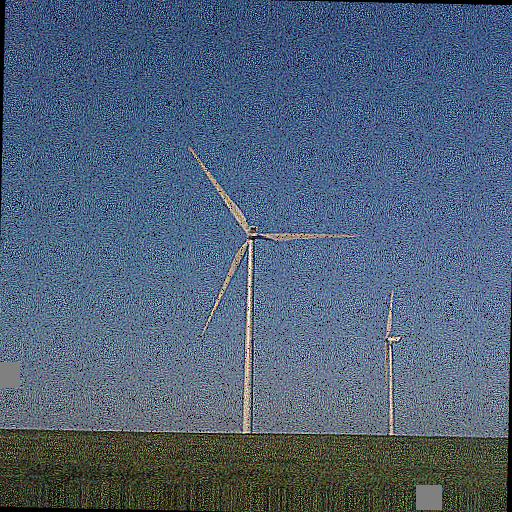wind turbine: (185, 146, 358, 434), (381, 289, 404, 438)
